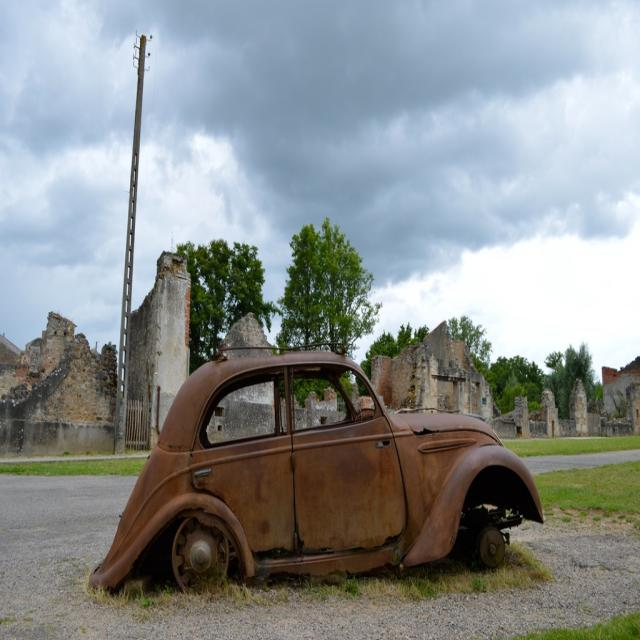car: (89, 347, 550, 579)
